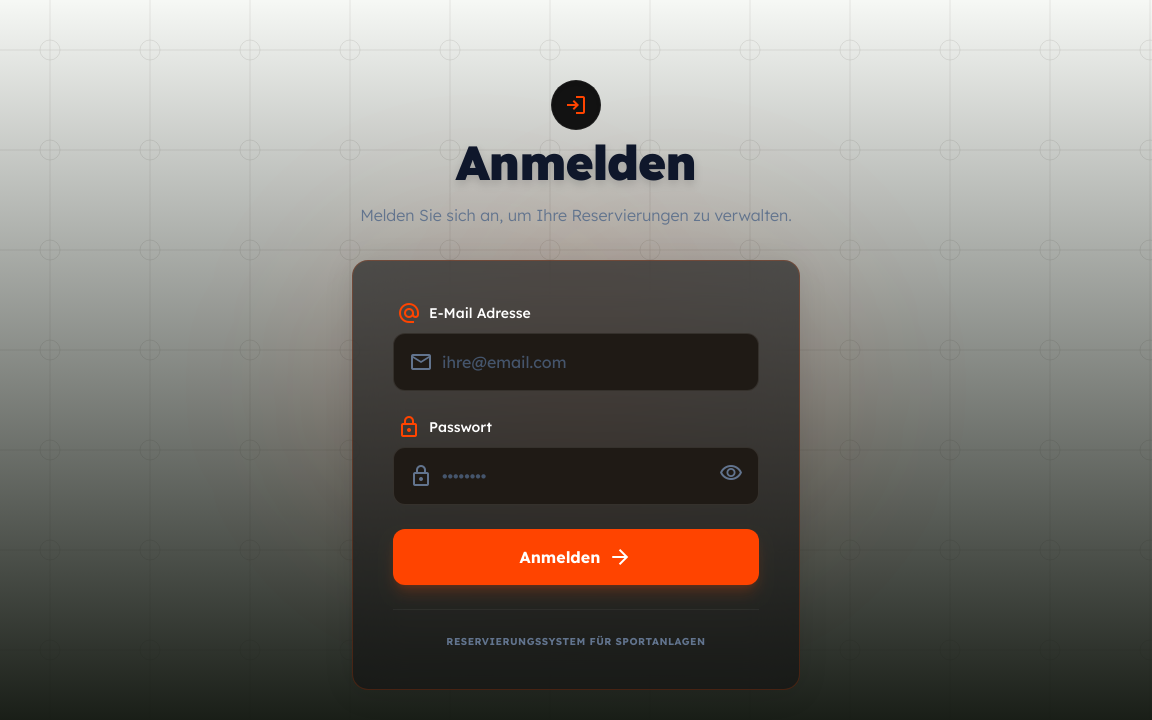
Test: Login Page › shows error on failed login
The width and height of the screenshot is (1152, 720).
In the field labelled "E-Mail Adresse": (576,362) top-left (393, 333), bottom-right (759, 391), type "user@test.com"
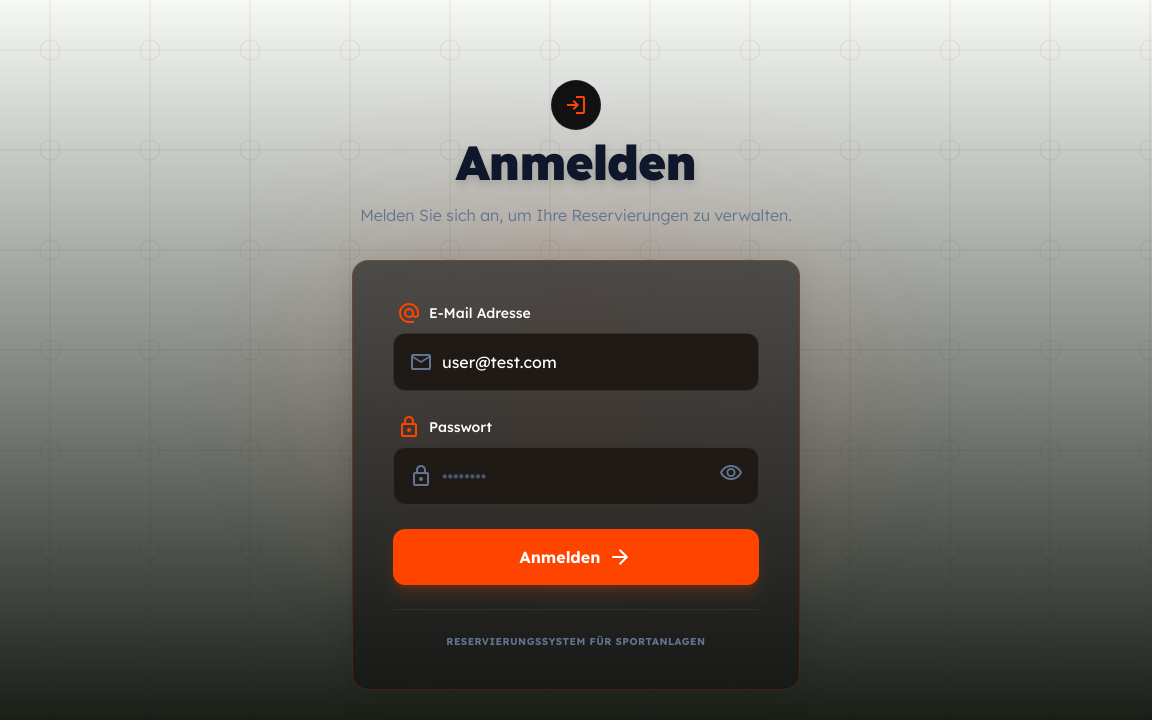
In the password field labelled "Passwort": (576,476) top-left (393, 447), bottom-right (759, 505), type "wrongpass"
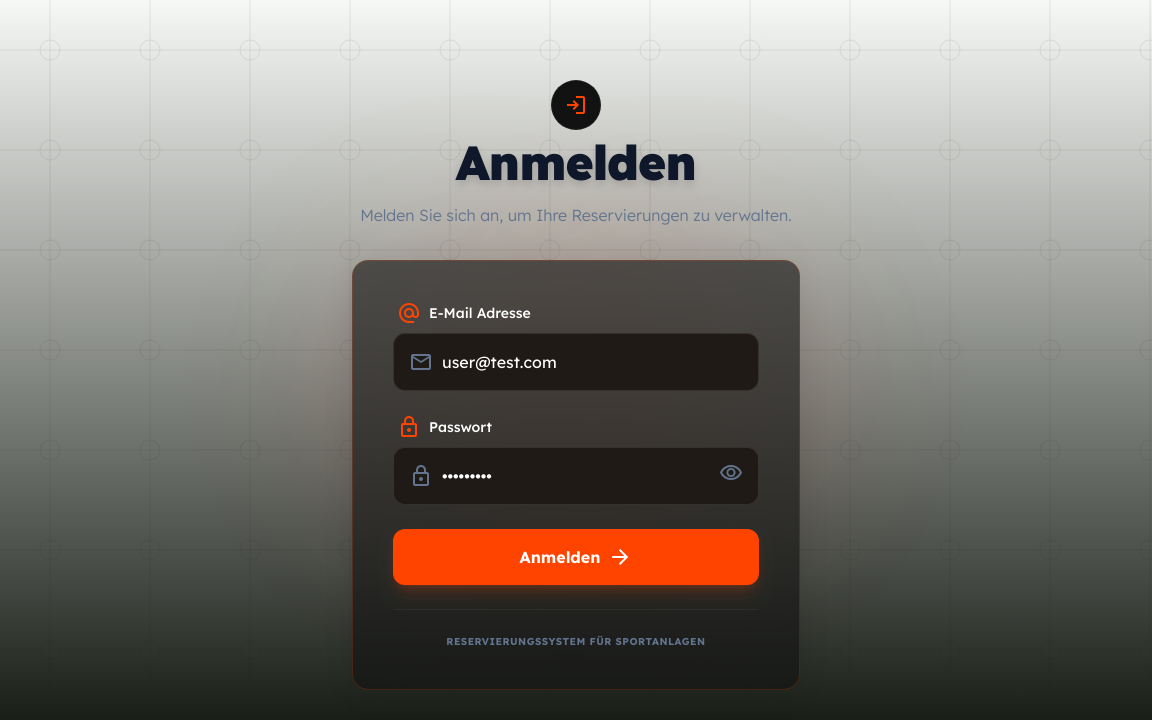
Click the button "Anmelden": (576,557) top-left (393, 529), bottom-right (759, 585)
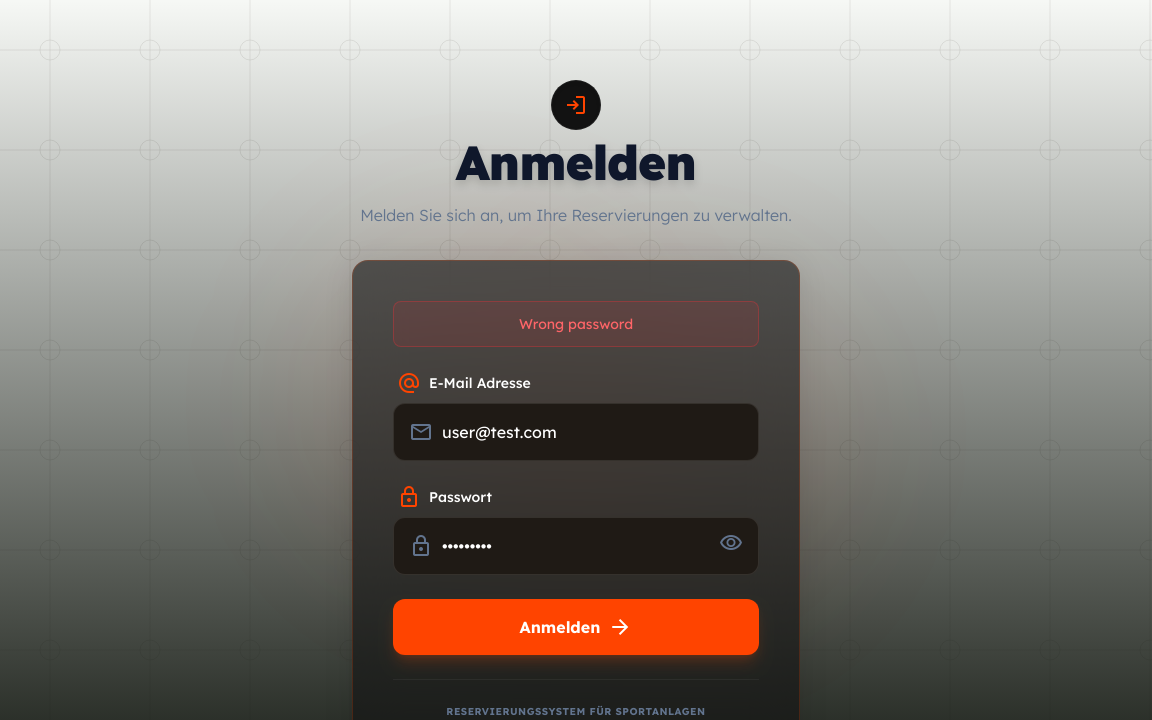
Expected: the text "Wrong password" is shown, top-left (393, 301), bottom-right (759, 347)
